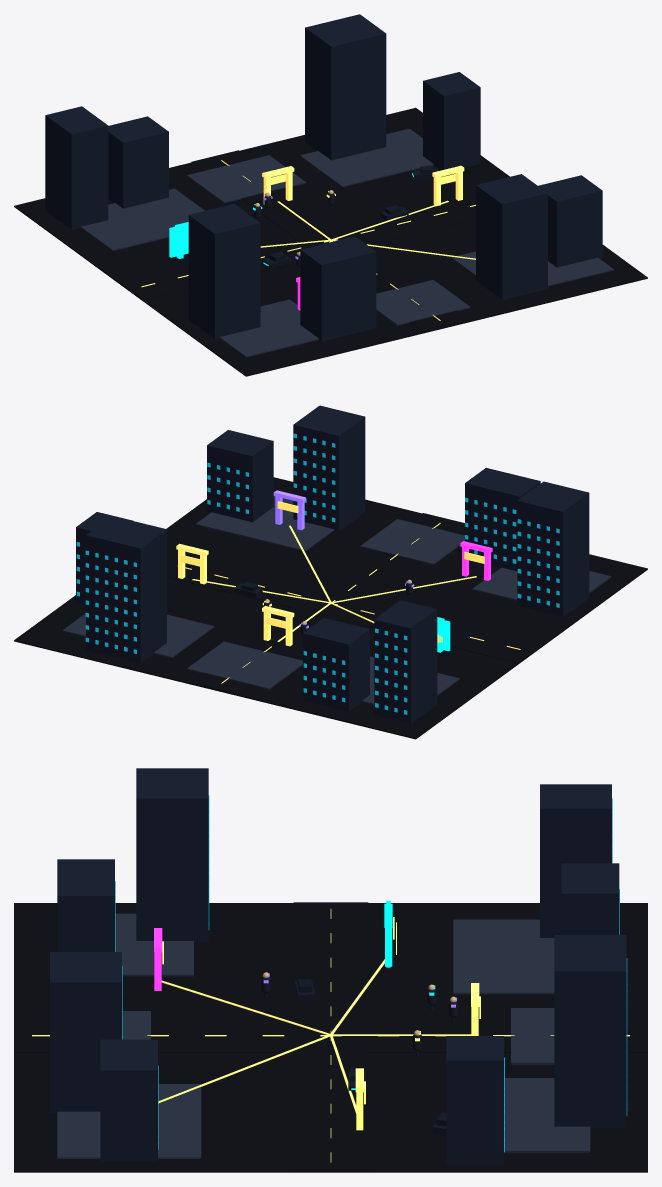
Rendered from rookie-plaza-city-kit.glb.
3 views of the same model, one above another, from view 1: azimuth 30°, elevation 25°; view 2: azimuth 150°, elevation 25°; view 3: azimuth 270°, elevation 25° (orthographic). The views are drawn at different scales.
Visible parts, largest first — view 1: GD_Floor_Walkable_Blacktop, GD_Tower_12_-18, GD_Tower_-18_11, GD_Tower_10_17, GD_Tower_-18_-17, GD_Tower_-9_17, GD_Road_Main_EW, GD_Tower_19_-10, GD_Road_Main_NS, GD_Tower_-11_-18, GD_Tower_18_14, GD_Sidewalk_-13_-13 (+5 smaller); view 2: GD_Floor_Walkable_Blacktop, GD_Tower_12_-18, GD_Tower_-18_11, GD_Tower_10_17, GD_Tower_-18_-17, GD_Road_Main_NS, GD_Road_Main_EW, GD_Tower_-11_-18, GD_Tower_18_14, GD_Tower_-9_17, GD_Sidewalk_0_-16, GD_Sidewalk_14_14 (+5 smaller); view 3: GD_Floor_Walkable_Blacktop, GD_Road_Main_EW, GD_Tower_12_-18, GD_Tower_-18_11, GD_Road_Main_NS, GD_Tower_10_17, GD_Tower_19_-10, GD_Sidewalk_-13_-13, GD_Tower_-18_-17, GD_Tower_18_14, GD_Tower_-9_17, GD_Sidewalk_14_14 (+5 smaller).
Boxes of the visible parts, box(x1,y1,x2,y2) form: GD_Floor_Walkable_Blacktop: box(14, 107, 647, 376); GD_Tower_12_-18: box(305, 14, 386, 160); GD_Tower_-18_11: box(188, 204, 260, 338); GD_Tower_10_17: box(476, 174, 547, 299); GD_Tower_-18_-17: box(45, 106, 108, 229); GD_Tower_-9_17: box(300, 236, 376, 341); GD_Road_Main_EW: box(116, 192, 475, 300); GD_Tower_19_-10: box(423, 72, 480, 170); GD_Road_Main_NS: box(191, 150, 470, 331); GD_Tower_-11_-18: box(108, 116, 168, 208); GD_Tower_18_14: box(538, 175, 602, 267); GD_Sidewalk_-13_-13: box(81, 188, 204, 250); GD_Floor_Walkable_Blacktop: box(14, 477, 647, 739); GD_Tower_12_-18: box(86, 516, 166, 663); GD_Tower_-18_11: box(517, 481, 589, 616); GD_Tower_10_17: box(293, 405, 365, 531); GD_Tower_-18_-17: box(374, 600, 437, 723); GD_Road_Main_NS: box(191, 513, 464, 694); GD_Road_Main_EW: box(167, 550, 545, 662); GD_Tower_-11_-18: box(303, 618, 369, 711); GD_Tower_18_14: box(207, 430, 273, 522); GD_Tower_-9_17: box(465, 468, 540, 571); GD_Sidewalk_0_-16: box(187, 641, 302, 689); GD_Sidewalk_14_14: box(195, 491, 334, 551); GD_Floor_Walkable_Blacktop: box(14, 903, 647, 1172); GD_Road_Main_EW: box(293, 902, 368, 1170); GD_Tower_12_-18: box(554, 935, 626, 1128); GD_Tower_-18_11: box(136, 768, 208, 942); GD_Road_Main_NS: box(14, 1020, 647, 1052); GD_Tower_10_17: box(50, 952, 121, 1112); GD_Tower_19_-10: box(446, 1036, 503, 1164); GD_Sidewalk_-13_-13: box(453, 919, 554, 994); GD_Tower_-18_-17: box(540, 784, 611, 937); GD_Tower_18_14: box(100, 1039, 157, 1161); GD_Tower_-9_17: box(57, 859, 114, 951); GD_Sidewalk_14_14: box(57, 1084, 201, 1158).
Size of the model in its own units: 44 by 12.14 by 44.
